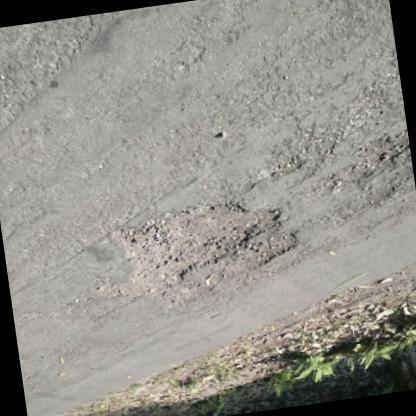pothole: (101, 198, 300, 304), (330, 132, 413, 205)
